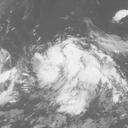cyclone: (31, 37, 108, 116)
